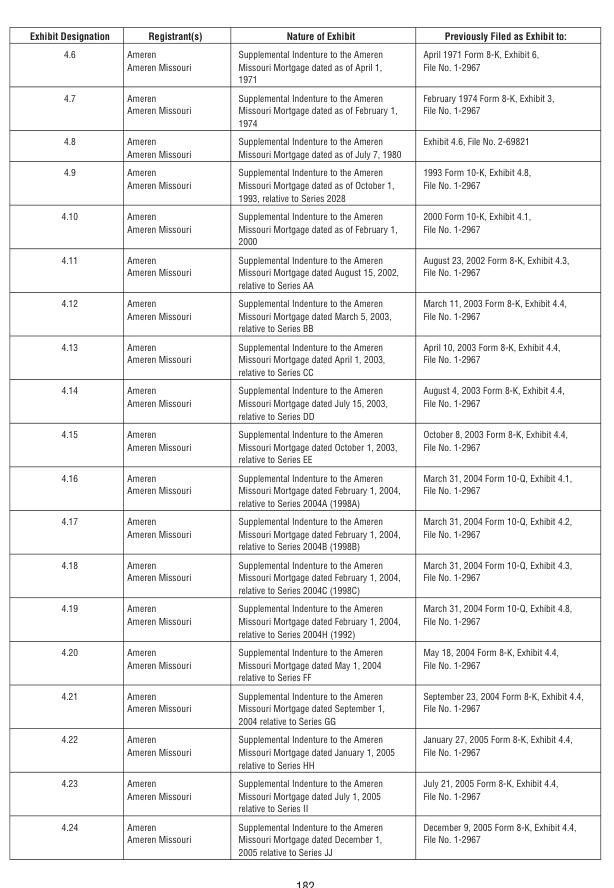table: (28, 28, 582, 857)
table column: (219, 28, 411, 857), (411, 28, 582, 857), (117, 28, 219, 857), (28, 28, 117, 857)
table column header: (28, 28, 582, 44)
table row: (28, 44, 582, 88), (28, 162, 582, 206), (28, 249, 582, 293), (28, 293, 582, 337), (28, 380, 582, 424), (28, 467, 582, 511), (28, 511, 582, 555), (28, 598, 582, 642), (28, 685, 582, 729), (28, 729, 582, 773), (28, 773, 582, 817), (28, 88, 582, 131), (28, 206, 582, 249), (28, 337, 582, 380), (28, 424, 582, 467), (28, 555, 582, 598), (28, 642, 582, 685), (28, 817, 582, 857), (28, 131, 582, 162), (28, 28, 582, 44)
